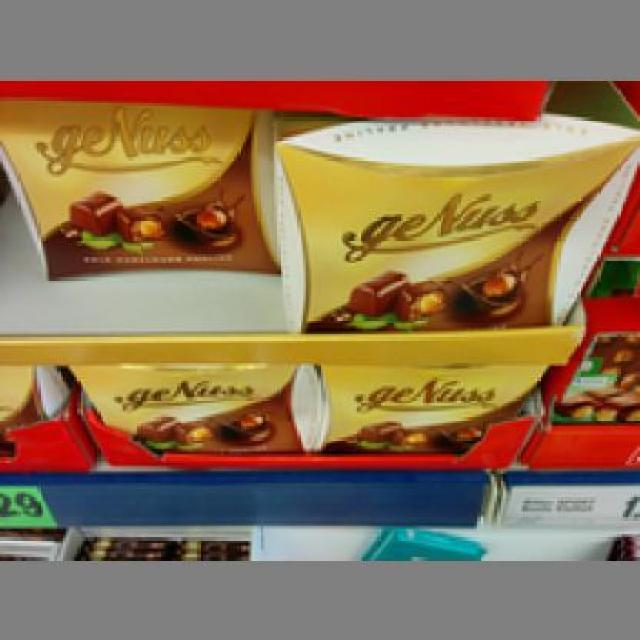Chocolate bar: (270, 110, 626, 330), (2, 97, 276, 283)
